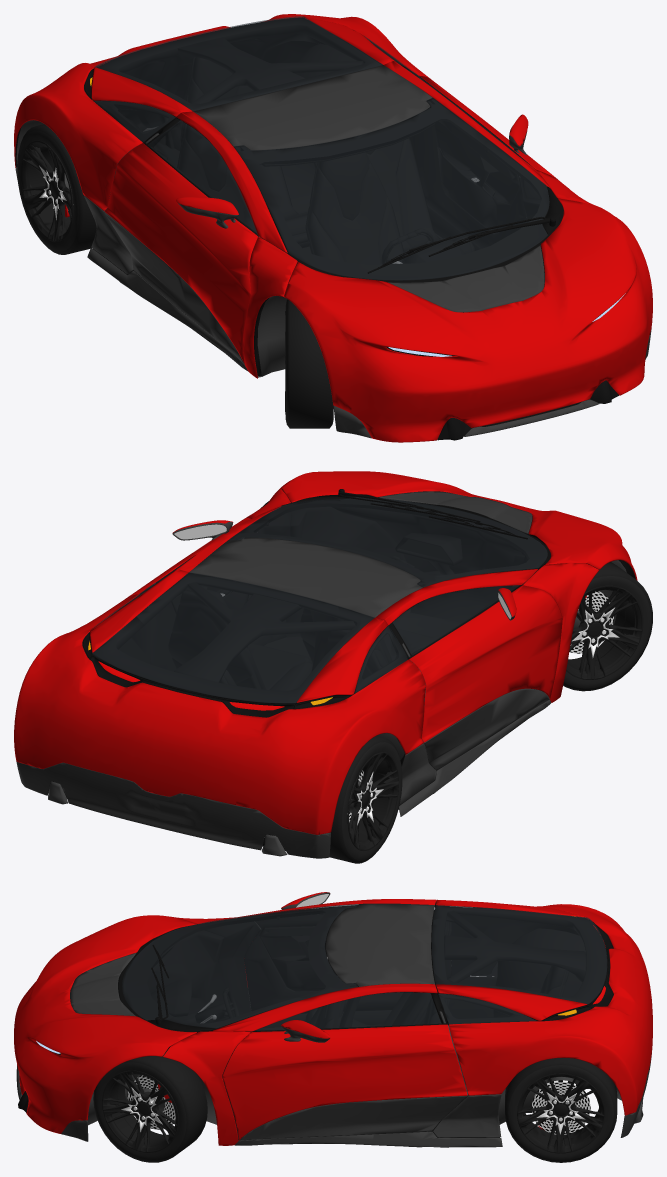
File: supercar.glb
3 renders of one model, top to bottom at view 1: azimuth 30°, elevation 25°; view 2: azimuth 150°, elevation 25°; view 3: azimuth 270°, elevation 25°, orthographic. The views are drawn at different scales.
Parts seen in each view (by area): view 1: BodyWindshield, BodyHood, BodyRearPanelsColor1, InteriorDashMid, BodyWindshieldGasket, BodyRoofPanel, BodyHoodTopgrill, wheel_FR, WheelRearLRim, wheels_R, InteriorRearPanels, BodyHoodInterior01 (+1 smaller); view 2: BodyRearPanelsColor1, BodyWindshield, BodyRoofPanel, BodyWindshieldGasket, InteriorDashMid, BodyHood, WheelFrontRRim, WheelRearLRim, wheels_R, wheel_FR, BodyHoodTopgrill, InteriorSteeringDash (+2 smaller); view 3: BodyRearPanelsColor1, BodyWindshield, BodyWindshieldGasket, InteriorDashMid, BodyRoofPanel, BodyHood, wheel_FL, WheelRearLRim, WheelFrontLRim, wheels_R, BodyHoodTopgrill, InteriorRearPanels (+3 smaller).
Boxes of the visible parts, x1=… form: BodyWindshield: x1=94, y1=16, x2=549, y2=280; BodyHood: x1=284, y1=198, x2=652, y2=442; BodyRearPanelsColor1: x1=14, y1=14, x2=598, y2=378; InteriorDashMid: x1=15, y1=33, x2=557, y2=376; BodyWindshieldGasket: x1=84, y1=17, x2=602, y2=438; BodyRoofPanel: x1=15, y1=65, x2=651, y2=438; BodyHoodTopgrill: x1=388, y1=245, x2=544, y2=312; wheel_FR: x1=285, y1=299, x2=333, y2=428; WheelRearLRim: x1=20, y1=140, x2=73, y2=241; wheels_R: x1=17, y1=124, x2=96, y2=254; InteriorRearPanels: x1=16, y1=78, x2=519, y2=377; BodyHoodInterior01: x1=437, y1=248, x2=618, y2=440; BodyRearPanelsColor1: x1=14, y1=489, x2=599, y2=834; BodyWindshield: x1=92, y1=497, x2=547, y2=703; BodyRoofPanel: x1=16, y1=521, x2=550, y2=858; BodyWindshieldGasket: x1=83, y1=489, x2=550, y2=844; InteriorDashMid: x1=48, y1=502, x2=540, y2=850; BodyHood: x1=279, y1=471, x2=637, y2=580; WheelFrontRRim: x1=566, y1=585, x2=643, y2=679; WheelRearLRim: x1=347, y1=752, x2=398, y2=850; wheels_R: x1=329, y1=736, x2=402, y2=863; wheel_FR: x1=563, y1=562, x2=652, y2=691; BodyHoodTopgrill: x1=379, y1=491, x2=532, y2=533; InteriorSteeringDash: x1=395, y1=533, x2=462, y2=565; BodyRearPanelsColor1: x1=163, y1=892, x2=652, y2=1145; BodyWindshield: x1=122, y1=904, x2=607, y2=1030; BodyWindshieldGasket: x1=19, y1=901, x2=613, y2=1144; InteriorDashMid: x1=118, y1=906, x2=613, y2=1143; BodyRoofPanel: x1=16, y1=892, x2=651, y2=1147; BodyHood: x1=14, y1=915, x2=196, y2=1133; wheel_FL: x1=93, y1=1054, x2=207, y2=1162; WheelRearLRim: x1=517, y1=1073, x2=605, y2=1153; WheelFrontLRim: x1=102, y1=1070, x2=178, y2=1152; wheels_R: x1=505, y1=1058, x2=617, y2=1162; BodyHoodTopgrill: x1=70, y1=953, x2=136, y2=1016; InteriorRearPanels: x1=87, y1=921, x2=643, y2=1125.
Size of the model in its own units: 2.54 by 1.15 by 4.36.
15 materials, 1 textured.
